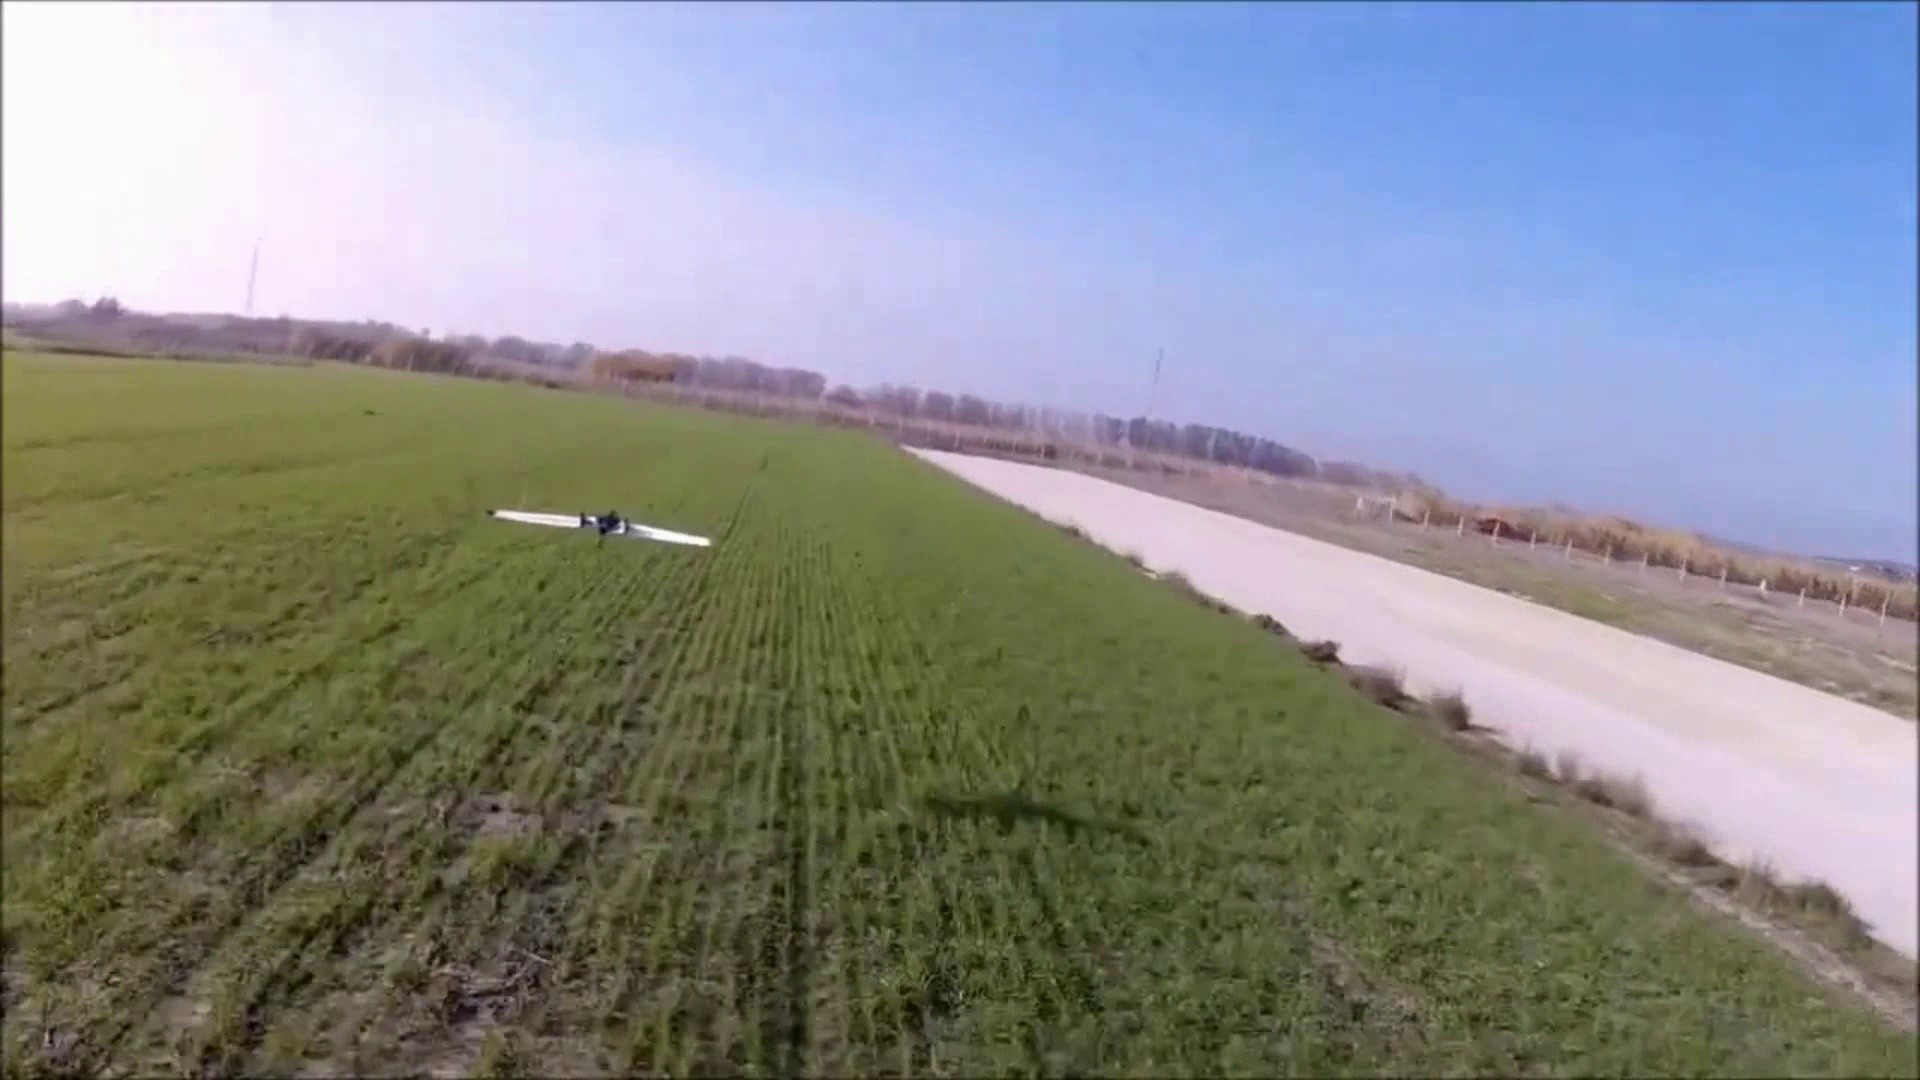airplane: (487, 502, 715, 553), (518, 509, 702, 543)
